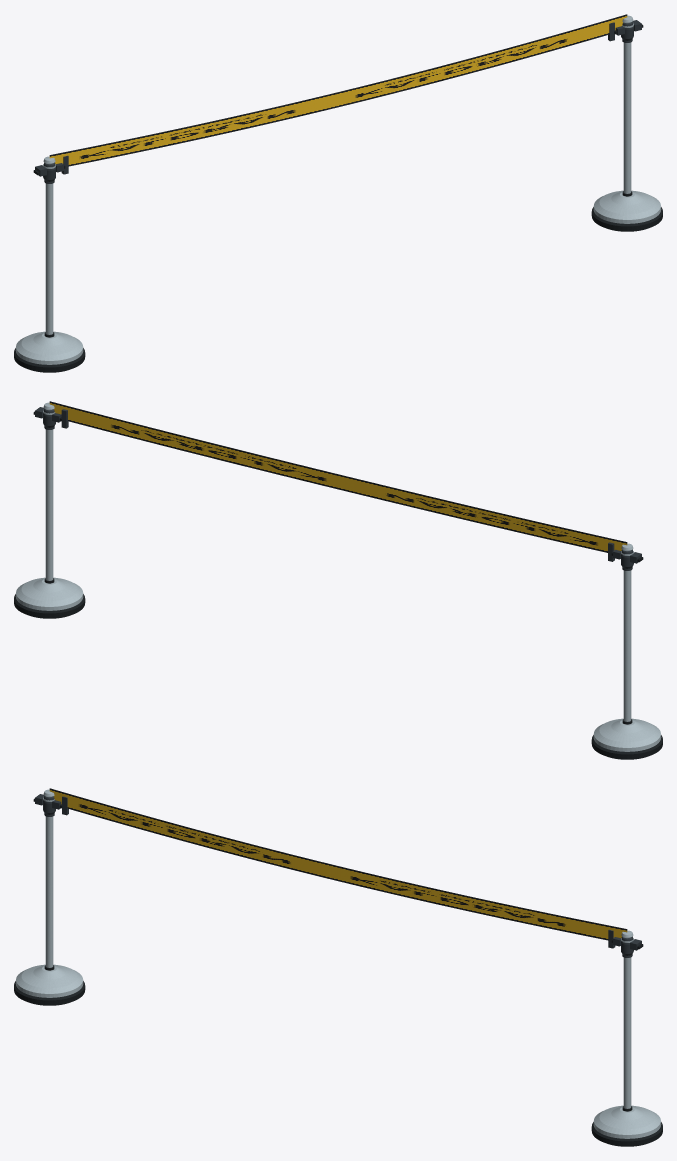
The picture shows the model from 3 angles, top to bottom: view 1: azimuth 30°, elevation 25°; view 2: azimuth 150°, elevation 25°; view 3: azimuth 330°, elevation 25°; orthographic projection.
Visible parts, largest first — view 1: VIS_Straight_Tape, VIS_Right_SteelBase, VIS_Left_SteelBase, VIS_Left_Stem, VIS_Right_Stem, VIS_Left_RubberFoot, VIS_Right_RubberFoot; view 2: VIS_Straight_Tape, VIS_Right_SteelBase, VIS_Left_SteelBase, VIS_Left_Stem, VIS_Right_Stem, VIS_Left_RubberFoot, VIS_Right_RubberFoot; view 3: VIS_Straight_Tape, VIS_Left_SteelBase, VIS_Right_SteelBase, VIS_Left_Stem, VIS_Right_Stem, VIS_Right_RubberFoot, VIS_Left_RubberFoot.
Boxes of the visible parts, x1,y1,x2,y2 form: VIS_Straight_Tape: (49,14,627,166); VIS_Right_SteelBase: (593,190,661,223); VIS_Left_SteelBase: (15,331,83,364); VIS_Left_Stem: (45,183,53,334); VIS_Right_Stem: (623,42,631,193); VIS_Left_RubberFoot: (14,348,85,372); VIS_Right_RubberFoot: (591,207,662,231); VIS_Straight_Tape: (49,401,627,552); VIS_Right_SteelBase: (15,577,83,610); VIS_Left_SteelBase: (593,718,661,751); VIS_Left_Stem: (623,570,631,721); VIS_Right_Stem: (45,429,53,580); VIS_Left_RubberFoot: (591,735,662,759); VIS_Right_RubberFoot: (14,594,85,618); VIS_Straight_Tape: (49,788,627,940); VIS_Left_SteelBase: (15,964,83,997); VIS_Right_SteelBase: (593,1105,661,1138); VIS_Left_Stem: (45,816,53,967); VIS_Right_Stem: (623,957,631,1108); VIS_Right_RubberFoot: (591,1122,662,1146); VIS_Left_RubberFoot: (14,981,85,1005).
Bounding box in the file's own units: 3.32 × 1.01 × 0.32.
Materials: 4 (4 with a texture image).
